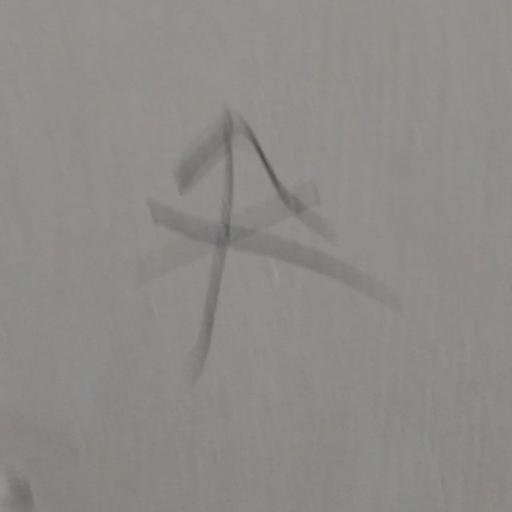stain: (119, 88, 404, 393)
